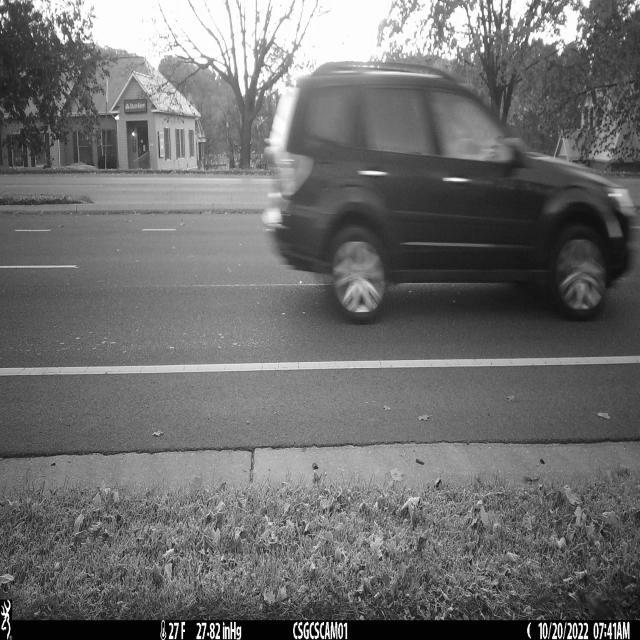SUV: (265, 62, 638, 324)
